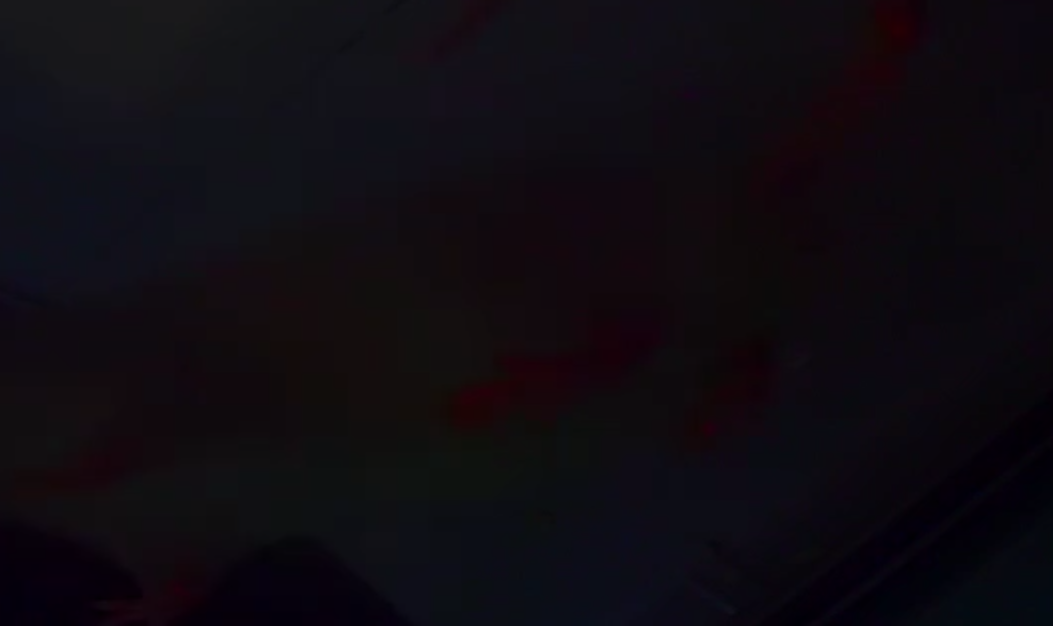paw: (393, 297, 666, 450), (684, 330, 799, 494), (19, 430, 160, 518), (86, 547, 226, 619)
